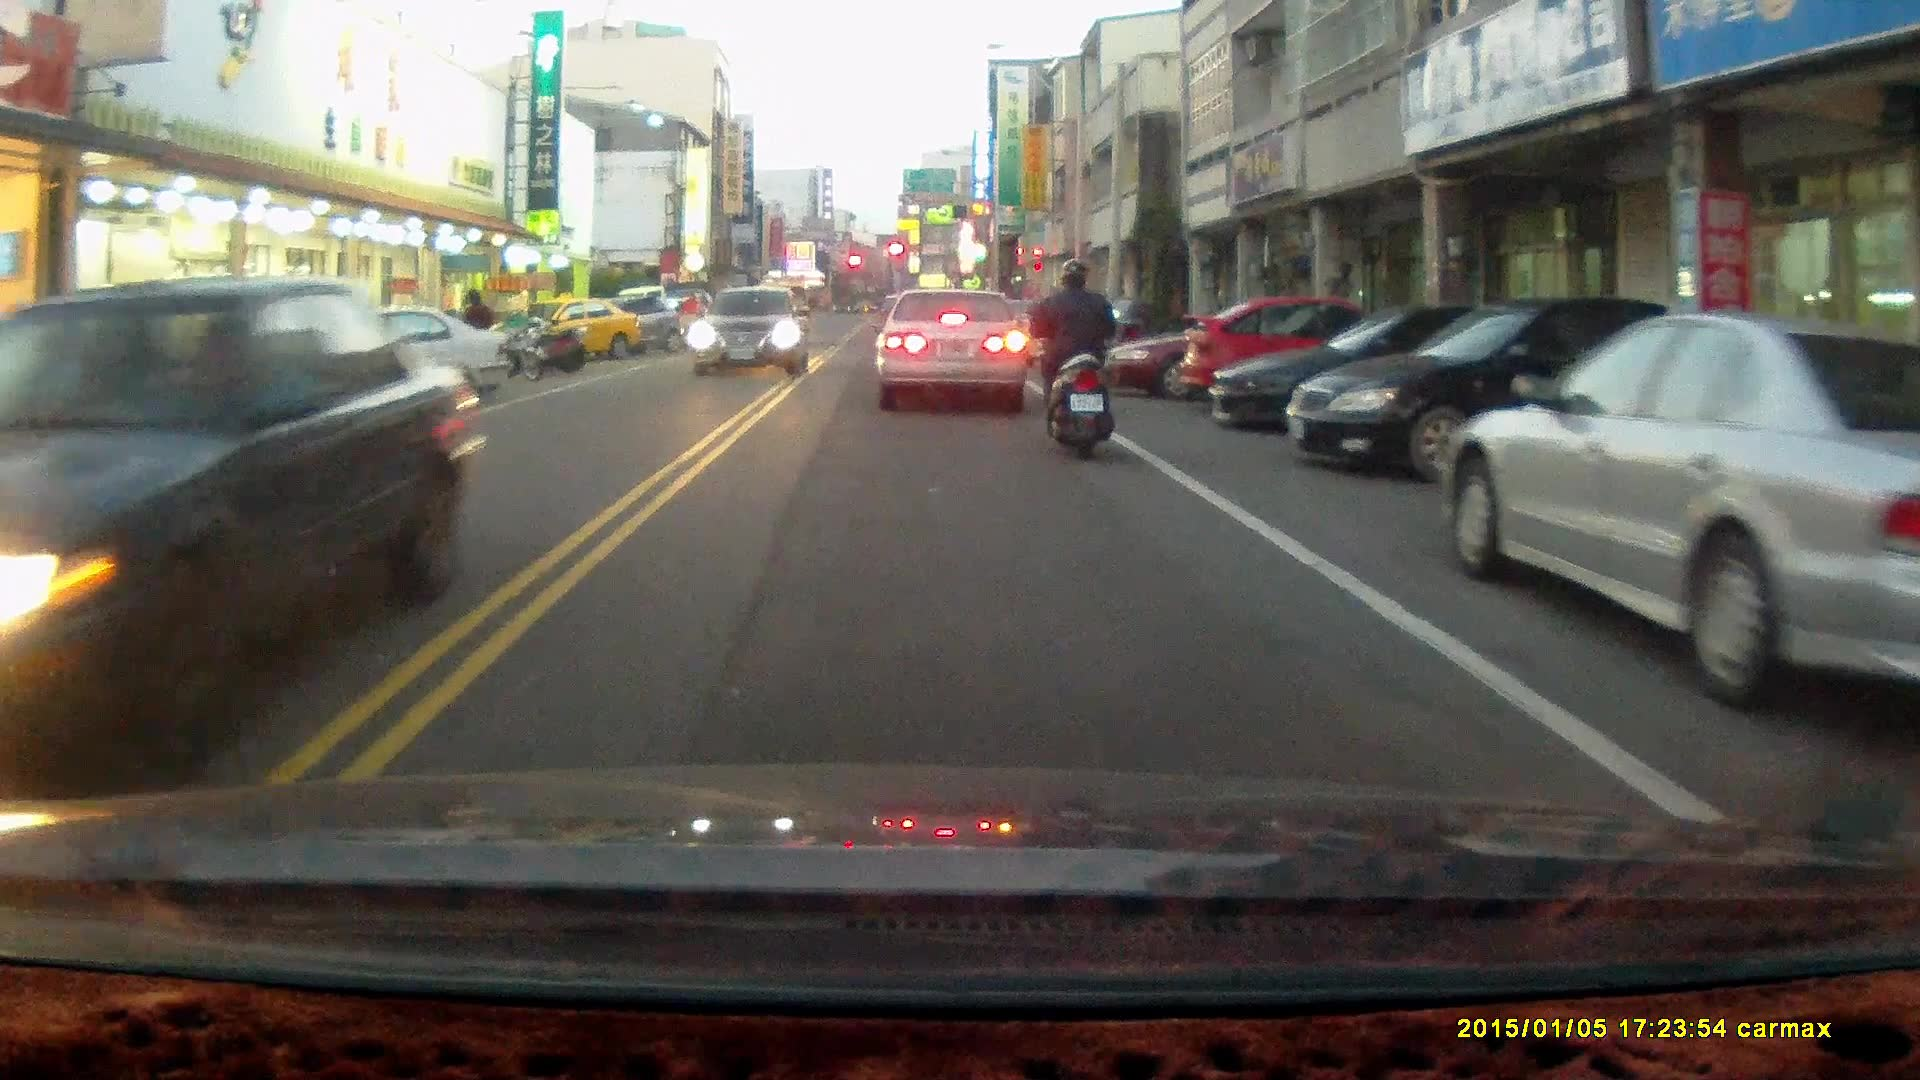pedestrian: (459, 288, 491, 371)
rider: (1027, 255, 1121, 461), (673, 291, 705, 361)
vehicle: (1, 277, 484, 763), (1442, 314, 1920, 716), (1283, 296, 1673, 484), (1205, 308, 1586, 446), (254, 304, 505, 421), (1101, 305, 1394, 401), (1175, 301, 1412, 420), (872, 288, 1027, 414), (692, 286, 810, 383), (521, 291, 644, 364)
